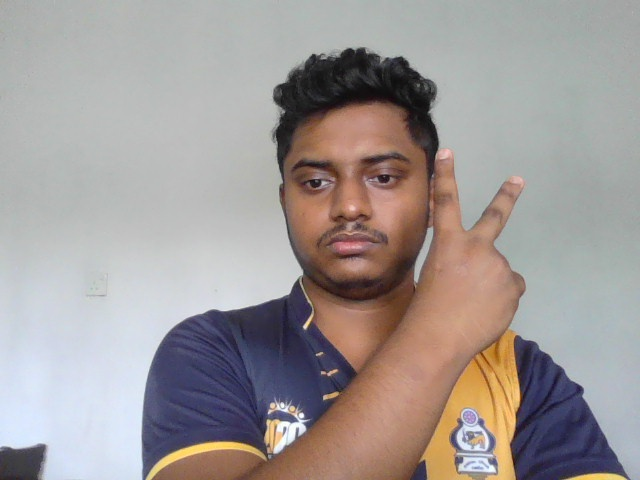See You: (422, 146, 525, 352)
